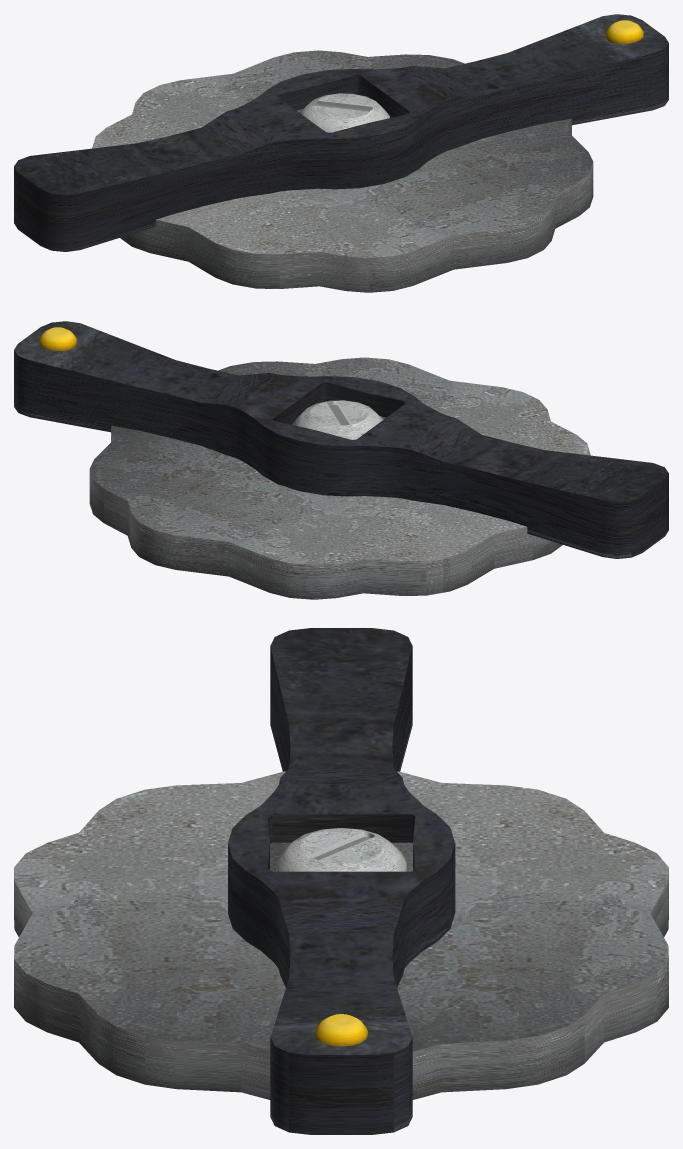
The model's file is F_Knob_01.fbx.
3 renders of one model, top to bottom at view 1: azimuth 30°, elevation 25°; view 2: azimuth 150°, elevation 25°; view 3: azimuth 270°, elevation 25°, orthographic. The views are drawn at different scales.
Visible parts, largest first — view 1: F_Knob_01; view 2: F_Knob_01; view 3: F_Knob_01.
Boxes of the visible parts, x1,y1,x2,y2 form: F_Knob_01: (14, 14, 668, 292); F_Knob_01: (14, 321, 668, 599); F_Knob_01: (14, 628, 668, 1134).
Size of the model in its own units: 74.83 by 11.02 by 48.53.
1 material, 1 textured.
